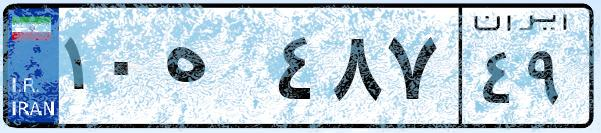0: (110, 28, 158, 98)
1: (57, 26, 110, 100)
4: (270, 28, 330, 110), (475, 38, 525, 113)
7: (385, 28, 445, 110)
8: (330, 28, 385, 110)
9: (525, 38, 570, 115)
ه: (158, 20, 270, 120)
